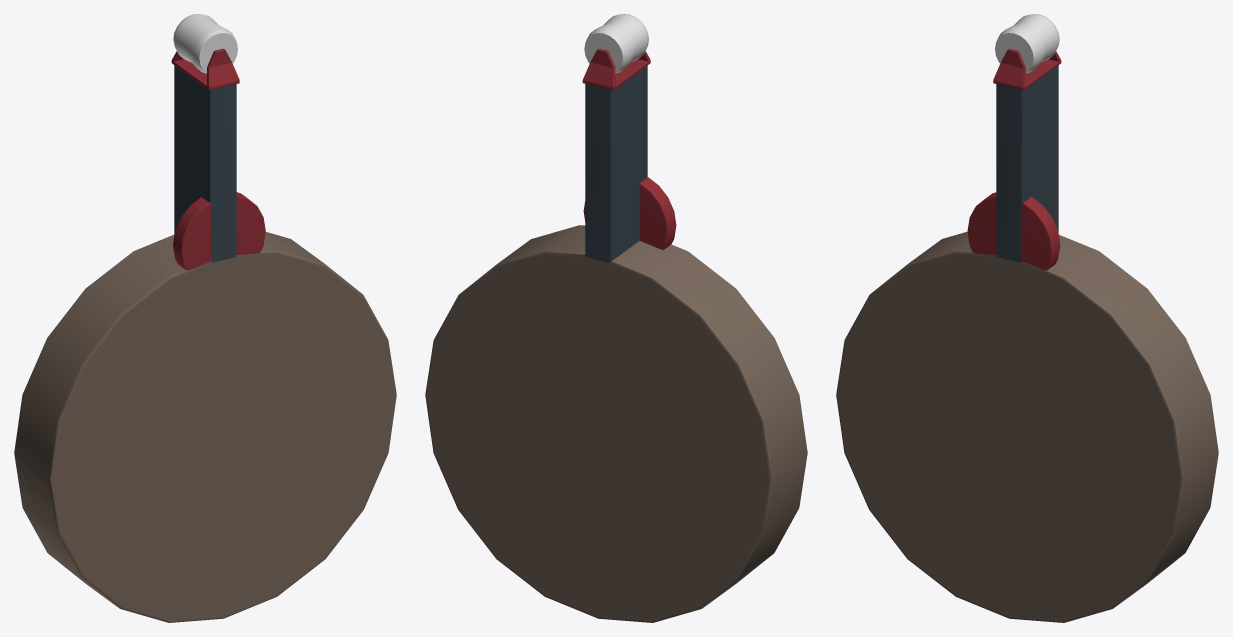
The model's file is Levone_L1.fbx.
3 views of the same model, side by side, from view 1: azimuth 30°, elevation 25°; view 2: azimuth 150°, elevation 25°; view 3: azimuth 330°, elevation 25° (orthographic).
Visible parts, largest first — view 1: polySurface259; view 2: polySurface259; view 3: polySurface259.
Part boxes in pixels (left/top/right/bottom): polySurface259: left=14, top=14, right=396, bottom=622; polySurface259: left=425, top=14, right=807, bottom=622; polySurface259: left=836, top=14, right=1218, bottom=622.
Size of the model in its own units: 23.36 by 37.51 by 4.39.
